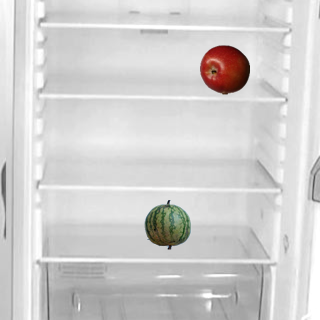Apple Braeburn: (199, 44, 249, 94)
Watermelon: (142, 199, 192, 249)
